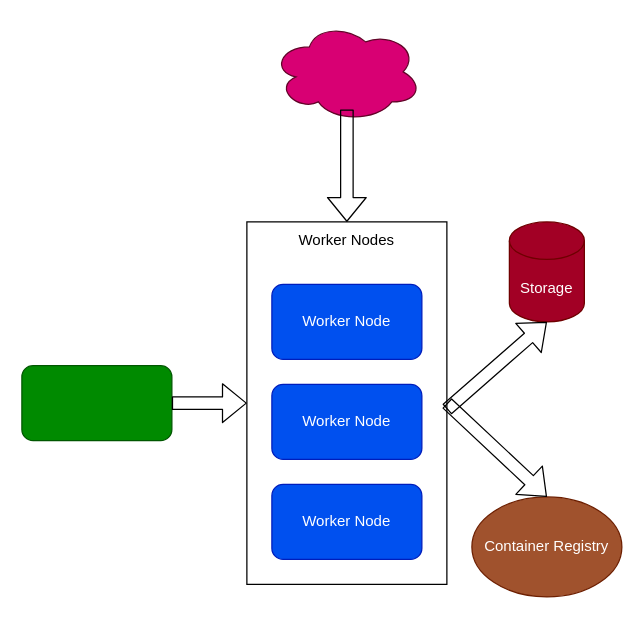
The diagram is 644 pixels wide and 619 high, and some of its shapes have lost their labels. The box of each missing label's shape, as (x1, y1, x2, y2) in pixels:
Control Node: (21, 364, 172, 441)
Load Balancer: (271, 21, 422, 122)
